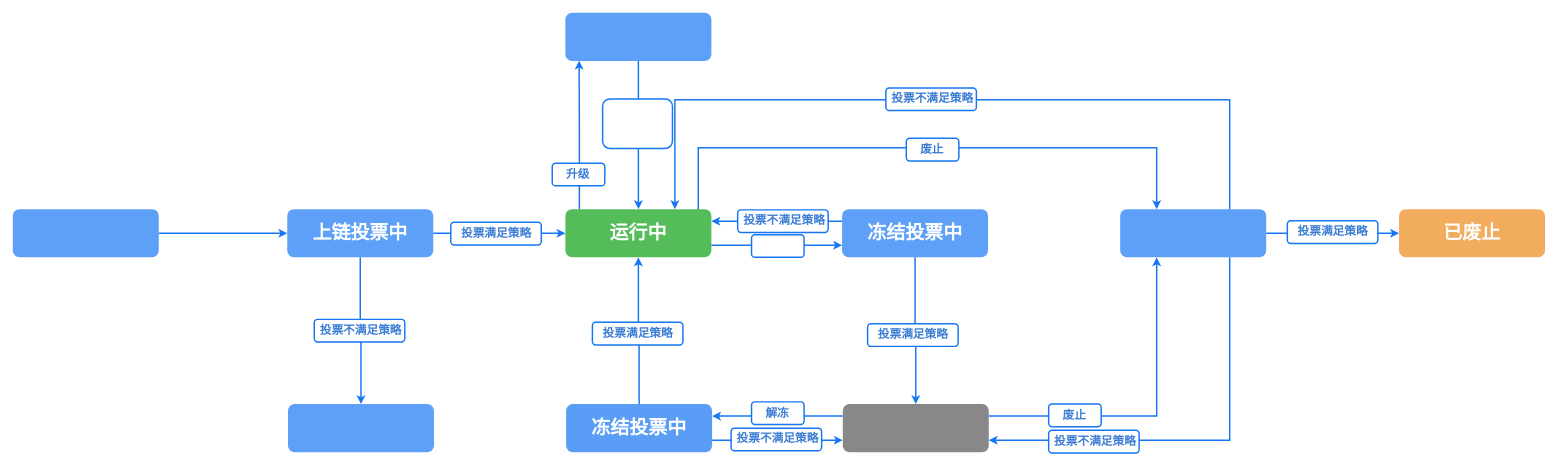
Some shapes in this 1557 by 466 pixel diagram are drawn without their labels. The shapes that lost their labels are listed below. From the top down, each one's centre as x and y in pixels, then its label:
At point 638,36: "升级投票中".
At point 637,123: "投票满足or不满足策略".
At point 85,233: "创建合约".
At point 777,246: "冻结".
At point 1193,233: "废止投票中".
At point 361,428: "上链投票失败".
At point 915,428: "已冻结".
